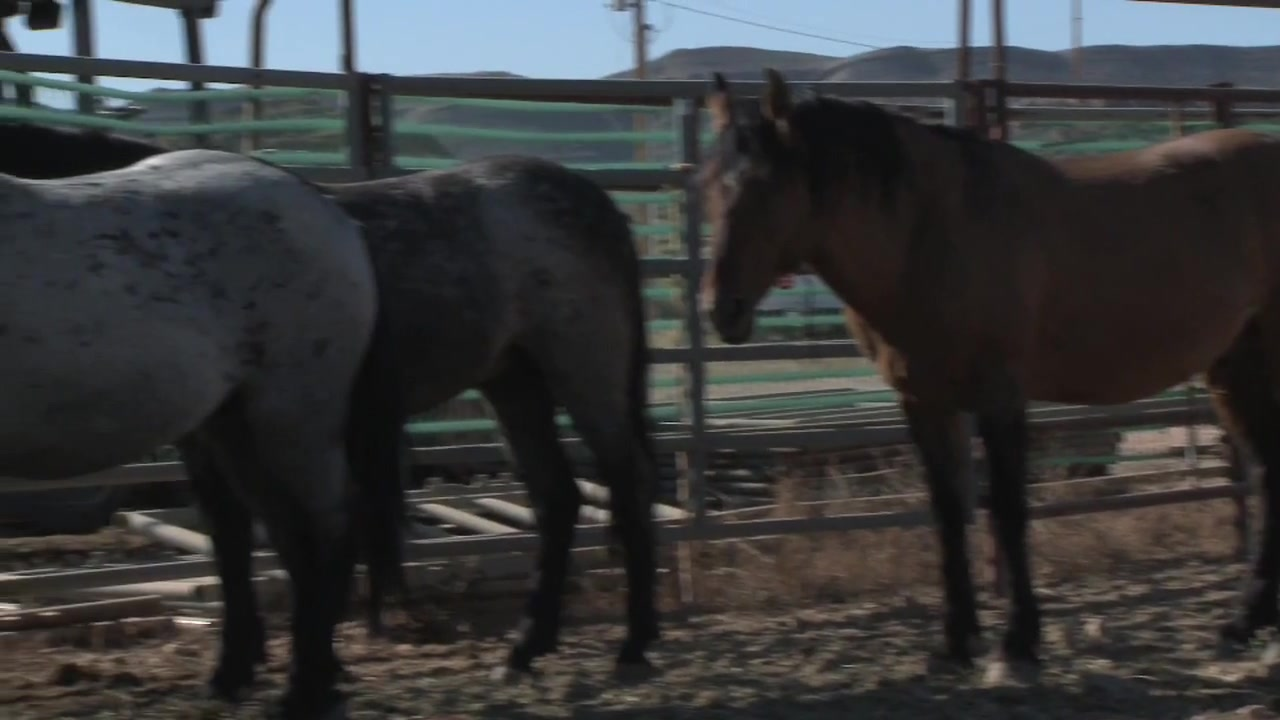horse: (2, 111, 668, 693), (703, 71, 1280, 686), (1, 149, 387, 720)
